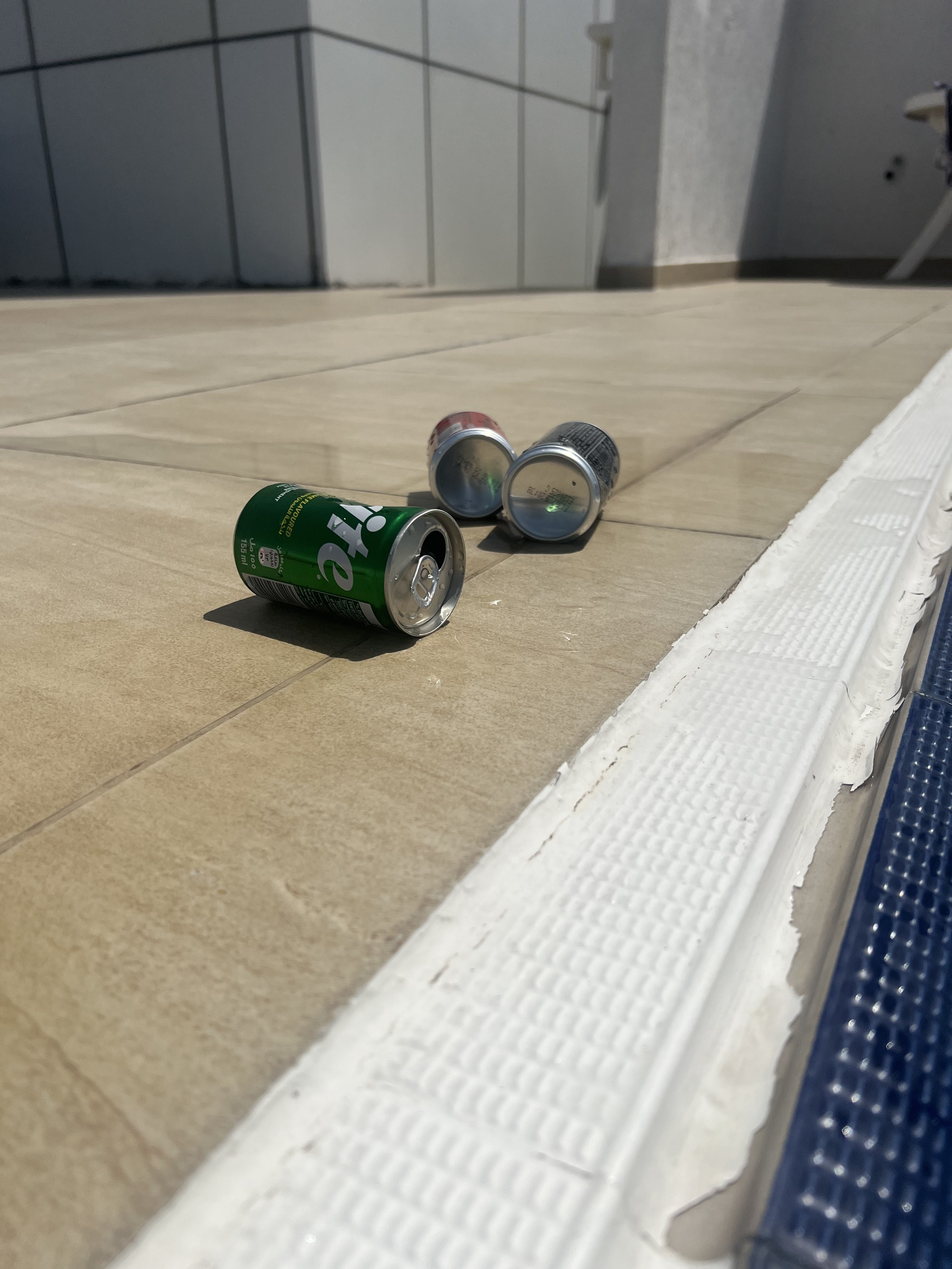debris: (223, 467, 472, 671), (502, 398, 623, 557), (422, 397, 518, 534)
